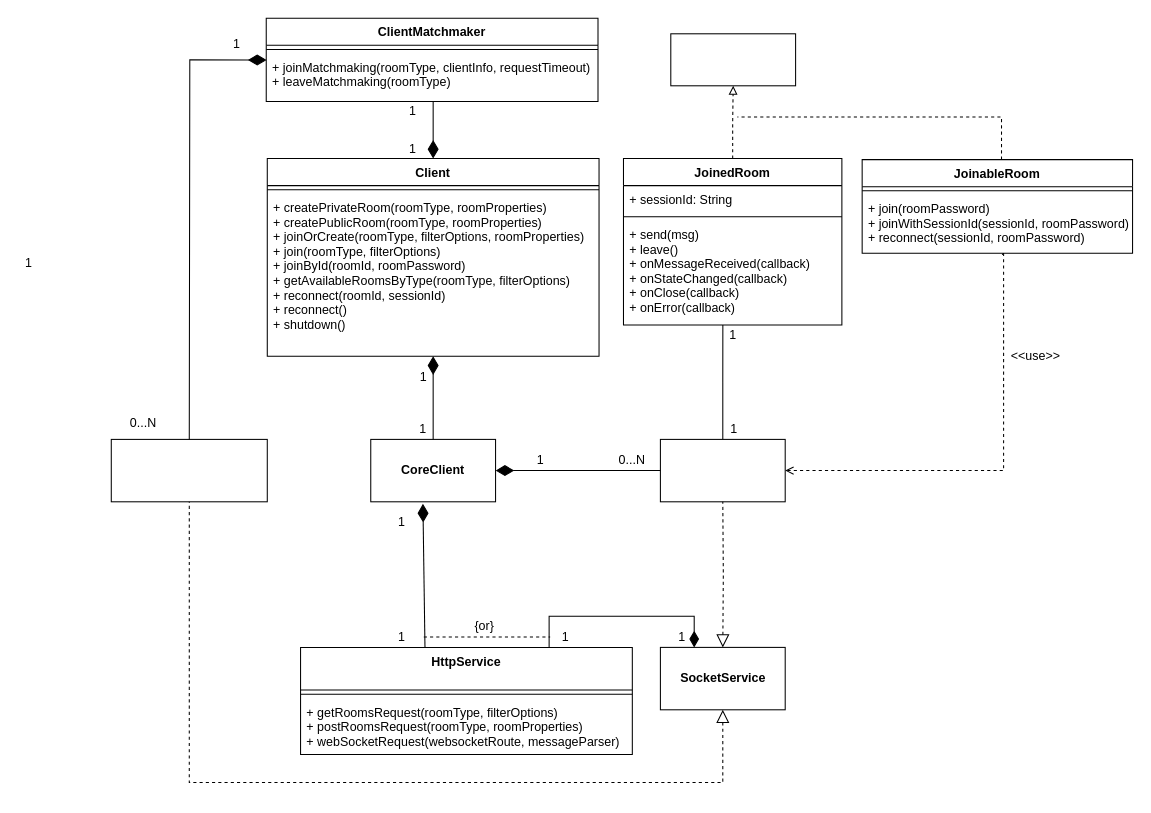
The diagram is 1151 pixels wide and 813 high, and some of its shapes have lost their labels. Each missing label, with the centre of its shape:
"ClientRoomActor" goes at pixel 722 470.
"MatchmakingActor" goes at pixel 188 470.
"«interface» ClientRoom" goes at pixel 733 59.
